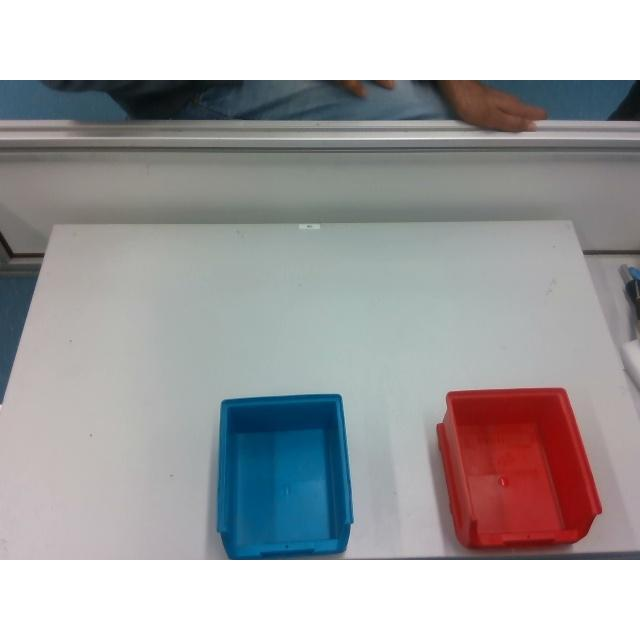container_box_blue: (218, 394, 352, 558)
container_box_red: (437, 387, 601, 547)
